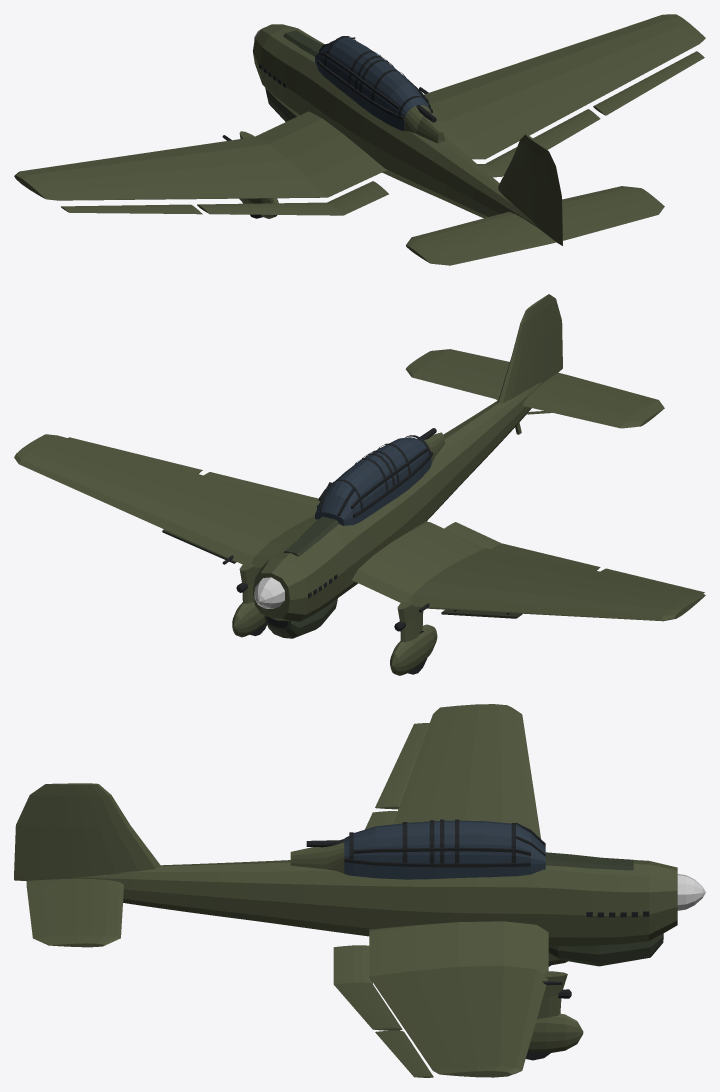
3 views of the same model, one above another, from view 1: azimuth 30°, elevation 25°; view 2: azimuth 150°, elevation 25°; view 3: azimuth 270°, elevation 25° (orthographic). The views are drawn at different scales.
Parts seen in each view (by area): view 1: Wing L, Wing R, Fuselage, Cockpit Glass, Stabilizer L, Flap L, Vertical Fin, Rudder, Stabilizer R, Elevator L, Elevator R, Canopy Frame (+5 smaller); view 2: Wing L, Wing R, Fuselage, Cockpit Glass, Stabilizer L, Vertical Fin, Stabilizer R, Canopy Frame, Rudder, Elevator L, Flap L, Radiator (+4 smaller); view 3: Fuselage, Wing R, Wing L, Cockpit Glass, Vertical Fin, Rudder, Stabilizer R, Flap R, Canopy Frame, Elevator R, Radiator, Aileron L (+4 smaller).
Boxes of the visible parts, x1,y1,x2,y2 form: Wing L: [14, 111, 387, 218]; Wing R: [419, 14, 705, 159]; Fuselage: [253, 24, 537, 227]; Cockpit Glass: [315, 37, 430, 130]; Stabilizer L: [406, 212, 539, 258]; Flap L: [197, 181, 388, 215]; Vertical Fin: [498, 134, 539, 224]; Rudder: [536, 144, 562, 245]; Stabilizer R: [562, 186, 655, 223]; Elevator L: [422, 229, 556, 265]; Elevator R: [562, 199, 664, 240]; Canopy Frame: [317, 36, 432, 119]; Wing L: [352, 521, 705, 675]; Wing R: [14, 434, 316, 637]; Fuselage: [253, 382, 543, 621]; Cockpit Glass: [315, 437, 431, 525]; Stabilizer L: [522, 381, 656, 428]; Vertical Fin: [498, 301, 542, 403]; Stabilizer R: [405, 356, 506, 399]; Canopy Frame: [317, 435, 432, 517]; Rudder: [538, 294, 562, 382]; Elevator L: [546, 372, 664, 414]; Flap L: [444, 522, 600, 570]; Radiator: [264, 598, 337, 638]; Fuselage: [74, 860, 677, 946]; Wing R: [369, 921, 583, 1077]; Wing L: [393, 704, 567, 966]; Cockpit Glass: [344, 820, 545, 879]; Vertical Fin: [67, 783, 160, 878]; Rudder: [14, 783, 67, 881]; Stabilizer R: [59, 878, 123, 947]; Flap R: [333, 945, 402, 1030]; Canopy Frame: [344, 819, 545, 867]; Elevator R: [26, 879, 67, 946]; Radiator: [548, 933, 663, 966]; Aileron L: [375, 723, 429, 809].
Bounding box in the file's own units: 13.8 × 4.04 × 11.
